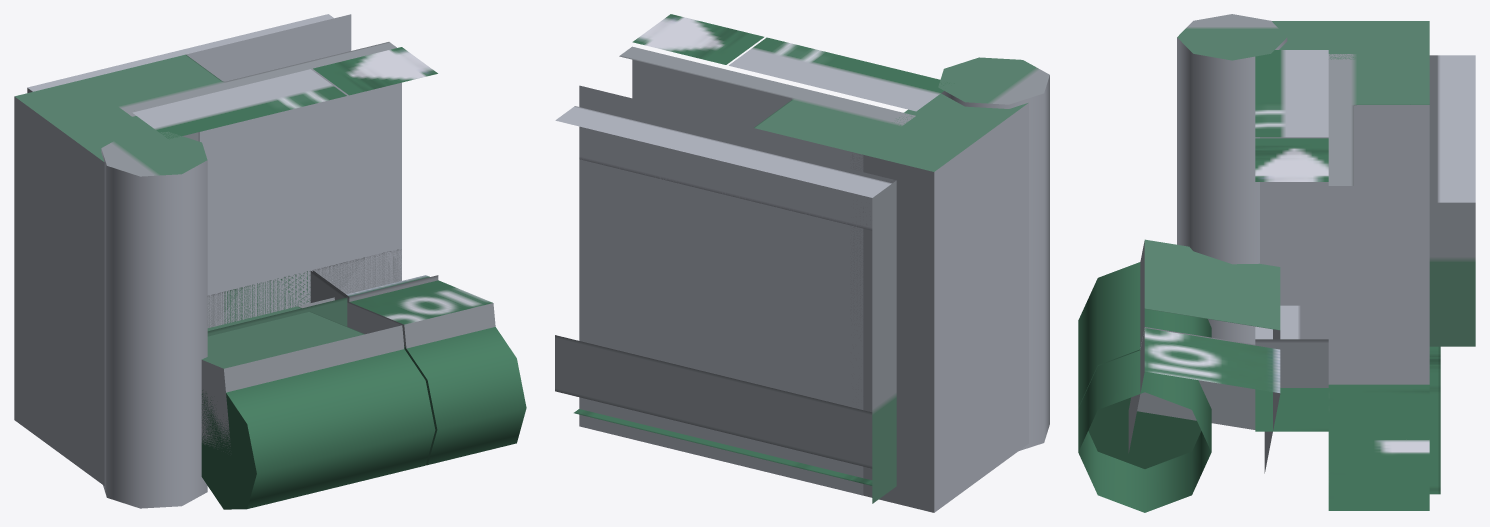
The model's file is section-1.obj.
The picture shows the model from 3 angles, left to right: view 1: azimuth 30°, elevation 25°; view 2: azimuth 150°, elevation 25°; view 3: azimuth 270°, elevation 25°; orthographic projection. The views are drawn at different scales.
Bounding box in the file's own units: 0.865 × 0.8 × 0.865.
